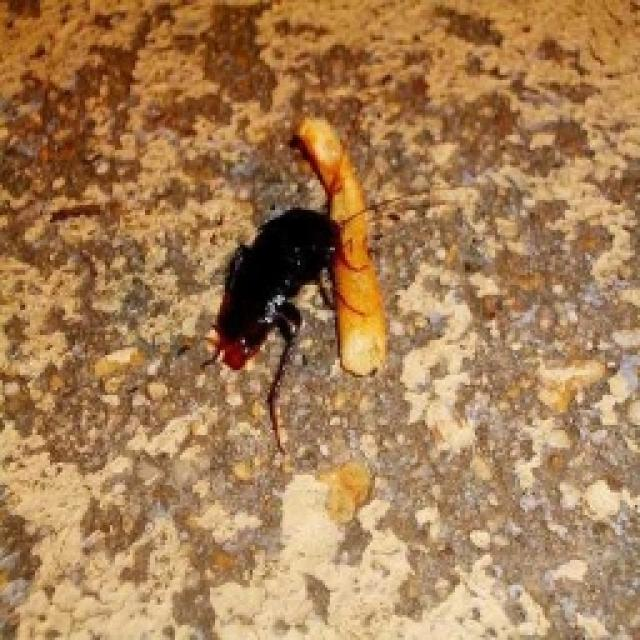cockroach: (196, 112, 393, 457)
